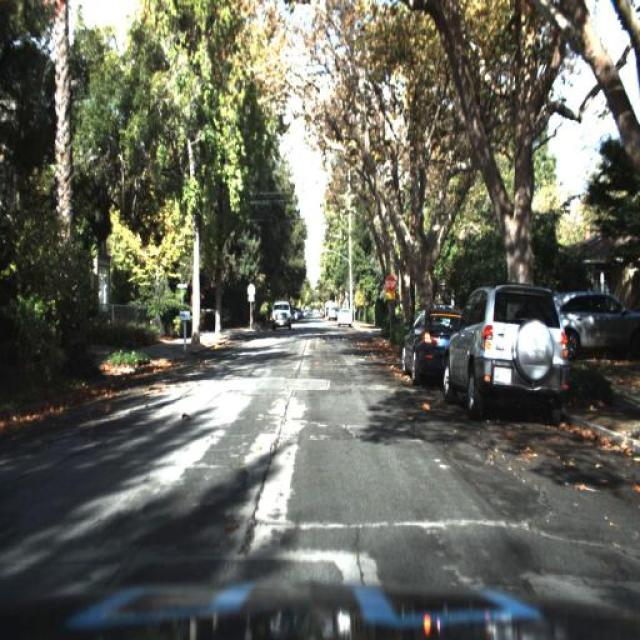car: (442, 280, 570, 422), (396, 306, 462, 384), (268, 298, 292, 332), (335, 305, 354, 334)
